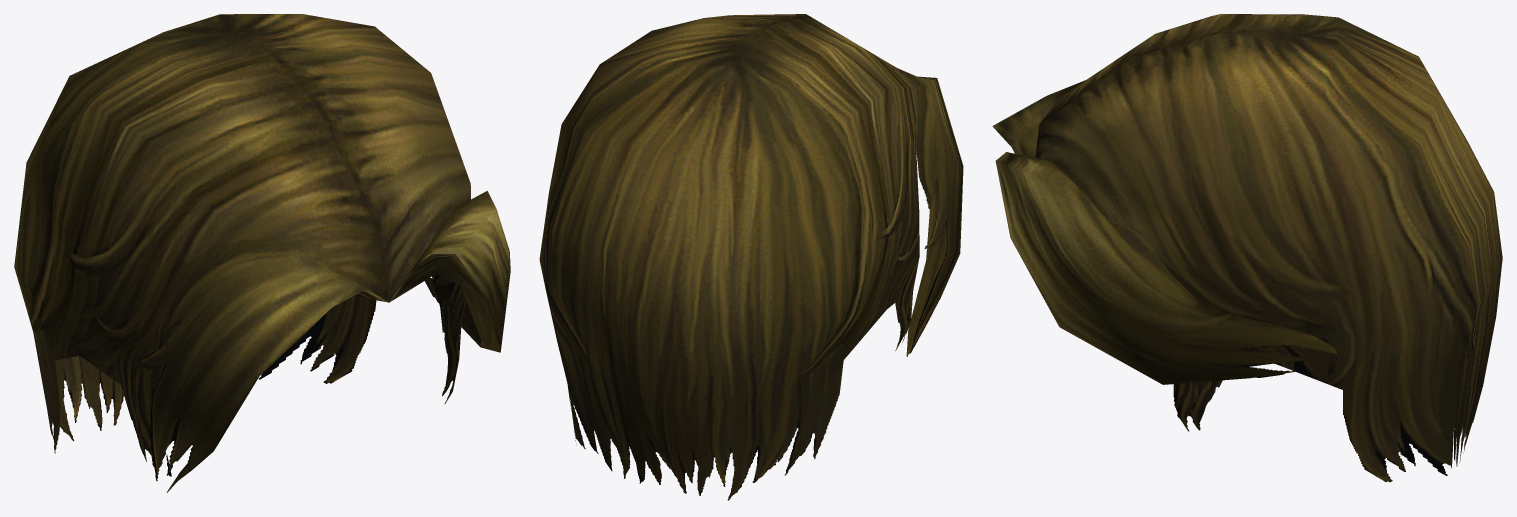
Rendered from M_jichufaxing03.FBX.
The picture shows the model from 3 angles, left to right: view 1: azimuth 30°, elevation 25°; view 2: azimuth 150°, elevation 25°; view 3: azimuth 270°, elevation 25°; orthographic projection. The views are drawn at different scales.
Visible parts, largest first — view 1: M_jichufaxing03; view 2: M_jichufaxing03; view 3: M_jichufaxing03.
Part boxes in pixels (left/top/right/bottom): M_jichufaxing03: left=14, top=14, right=510, bottom=492; M_jichufaxing03: left=539, top=14, right=963, bottom=500; M_jichufaxing03: left=992, top=14, right=1502, bottom=482.
Bounding box in the file's own units: 17.06 × 20.32 × 22.66.
1 material, 1 textured.
